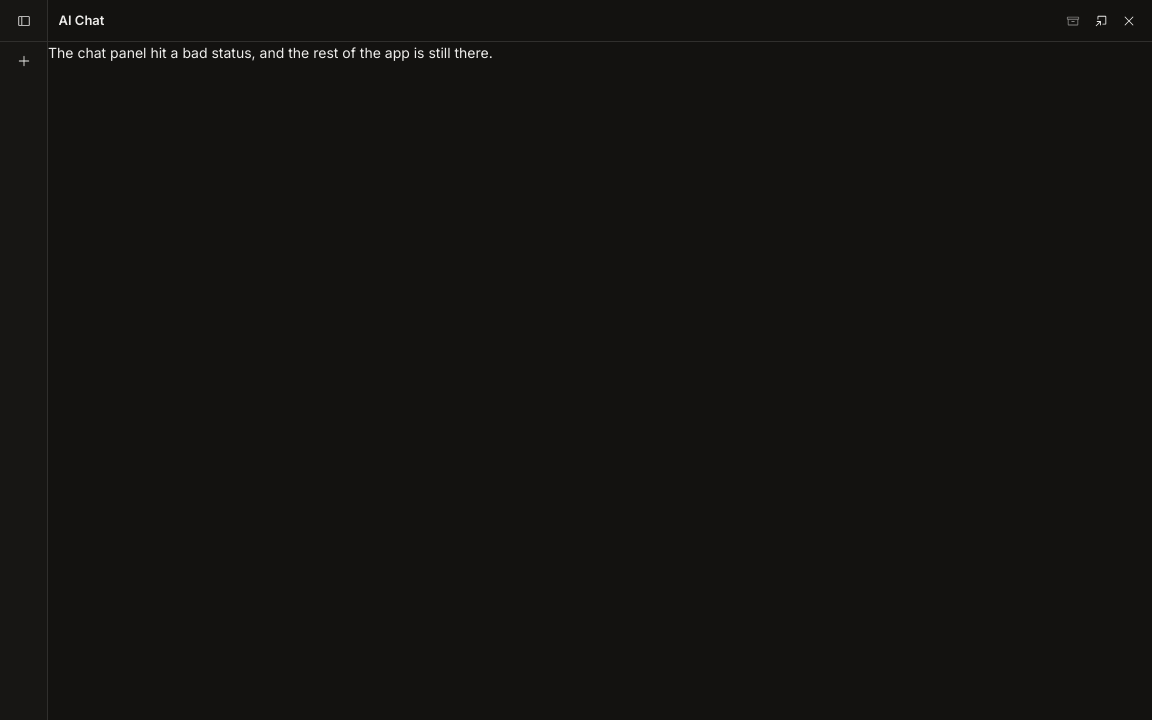
Test: AiWorkspace › opens with the workspace sidebar collapsed and expands from the sidebar header
Check: the text "Agents" is not shown
Click the button named "Expand AI chat list".
click(24, 21)  # box left=11, top=8, right=36, bottom=33
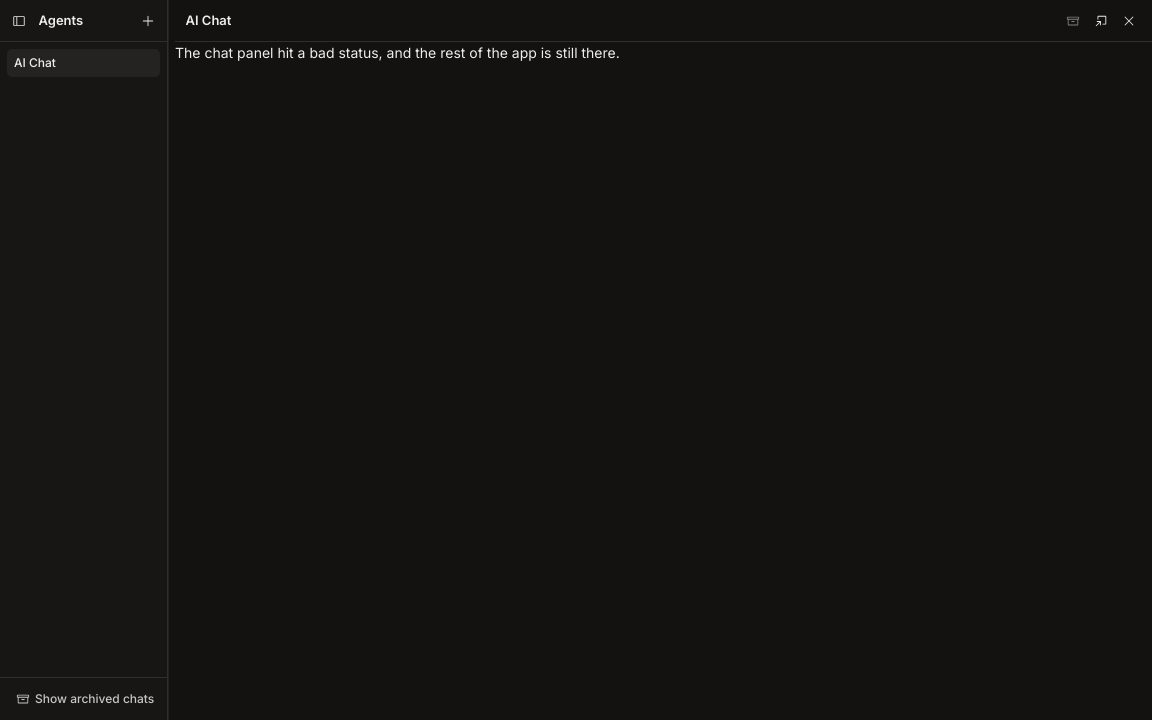
Check: the text "Agents" is shown, box left=38, top=11, right=83, bottom=30
Check: the button named "Collapse AI chat list" is shown, box left=7, top=8, right=32, bottom=33
